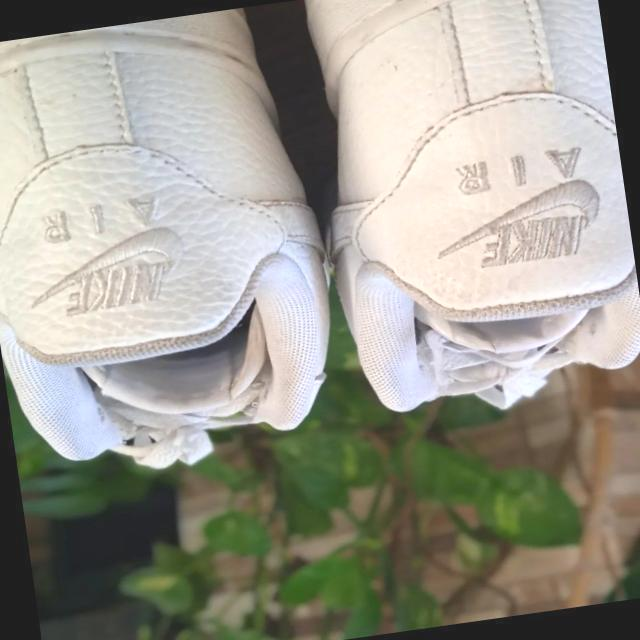nike_fake_airforce: (0, 1, 349, 468), (293, 0, 640, 420)
